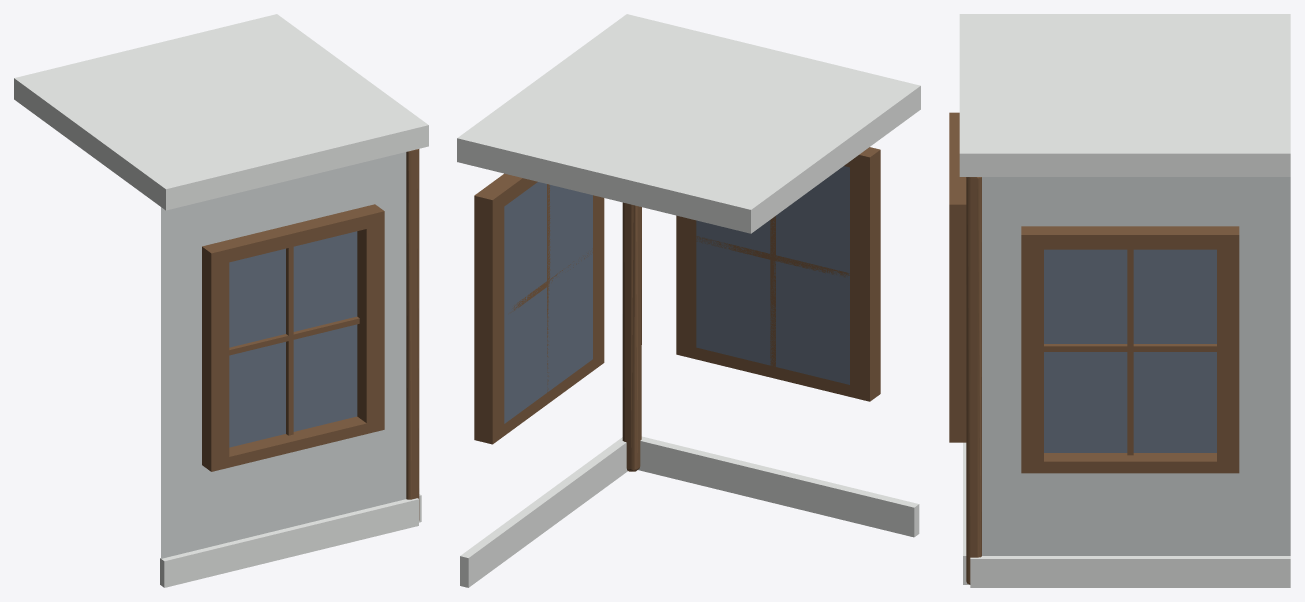
The model's file is CornerWindow90.glb.
3 renders of one model, left to right at view 1: azimuth 30°, elevation 25°; view 2: azimuth 150°, elevation 25°; view 3: azimuth 270°, elevation 25°, orthographic. The views are drawn at different scales.
Visible parts, largest first — view 1: PBK_floor_band.048, PBK_Modern_CornerWindow90_Exterior_Surface.001, PBK_glass.001, PBK_Continuous_Frame_Modern_Window.003, PBK_base_trim.001, PBK_ShopCornerPost90.021, PBK_Modern_Window_Balanced_Window_Cross.001; view 2: PBK_floor_band.048, PBK_glass.001, PBK_glass.003, PBK_Continuous_Frame_Modern_Window.003, PBK_Continuous_Frame_Modern_Window.004, PBK_base_trim.001, PBK_base_trim.003, PBK_ShopCornerPost90.021, PBK_Modern_Window_Balanced_Window_Cross.001, PBK_Modern_Window_Balanced_Window_Cross.002; view 3: PBK_Modern_CornerWindow90_Exterior_Surface.001, PBK_floor_band.048, PBK_glass.003, PBK_Continuous_Frame_Modern_Window.004, PBK_base_trim.003, PBK_ShopCornerPost90.021, PBK_Continuous_Frame_Modern_Window.003, PBK_Modern_Window_Balanced_Window_Cross.002, PBK_base_trim.001.
Boxes of the visible parts, <box> form: PBK_floor_band.048: <box>14,14,428,210</box>; PBK_Modern_CornerWindow90_Exterior_Surface.001: <box>161,152,406,558</box>; PBK_glass.001: <box>229,231,357,447</box>; PBK_Continuous_Frame_Modern_Window.003: <box>202,204,384,471</box>; PBK_base_trim.001: <box>160,498,418,587</box>; PBK_ShopCornerPost90.021: <box>406,149,419,520</box>; PBK_Modern_Window_Balanced_Window_Cross.001: <box>229,247,359,435</box>; PBK_floor_band.048: <box>457,14,920,233</box>; PBK_glass.001: <box>696,166,849,384</box>; PBK_glass.003: <box>504,182,592,423</box>; PBK_Continuous_Frame_Modern_Window.003: <box>676,147,880,401</box>; PBK_Continuous_Frame_Modern_Window.004: <box>474,173,604,444</box>; PBK_base_trim.001: <box>638,436,919,537</box>; PBK_base_trim.003: <box>460,437,627,587</box>; PBK_ShopCornerPost90.021: <box>622,202,641,471</box>; PBK_Modern_Window_Balanced_Window_Cross.001: <box>696,216,849,366</box>; PBK_Modern_Window_Balanced_Window_Cross.002: <box>510,184,592,392</box>; PBK_Modern_CornerWindow90_Exterior_Surface.001: <box>982,177,1290,555</box>; PBK_floor_band.048: <box>959,14,1290,176</box>; PBK_glass.003: <box>1044,249,1216,452</box>; PBK_Continuous_Frame_Modern_Window.004: <box>1021,226,1239,473</box>; PBK_base_trim.003: <box>970,556,1290,587</box>; PBK_ShopCornerPost90.021: <box>966,177,981,584</box>; PBK_Continuous_Frame_Modern_Window.003: <box>949,112,966,442</box>; PBK_Modern_Window_Balanced_Window_Cross.002: <box>1044,249,1216,455</box>; PBK_base_trim.001: <box>963,442,969,584</box>.
Bounding box in the file's own units: 2.13 × 3 × 2.13.
